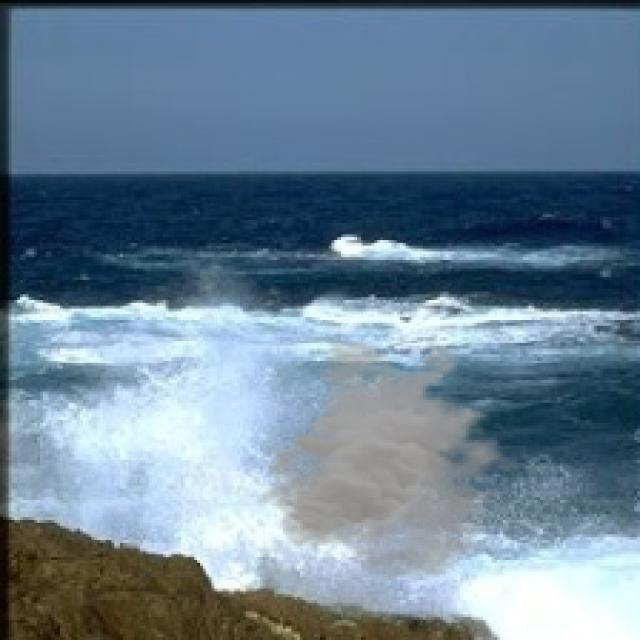Smoke: (254, 337, 529, 583)
